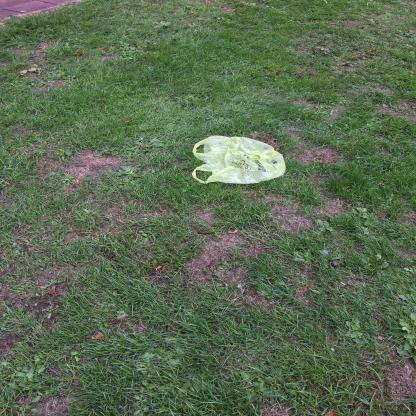plastik: (192, 137, 287, 185)
